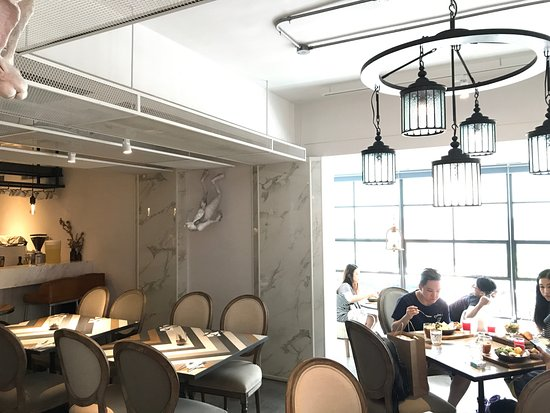people: (397, 265, 449, 335), (334, 263, 377, 342), (452, 275, 497, 324), (529, 267, 550, 344)
